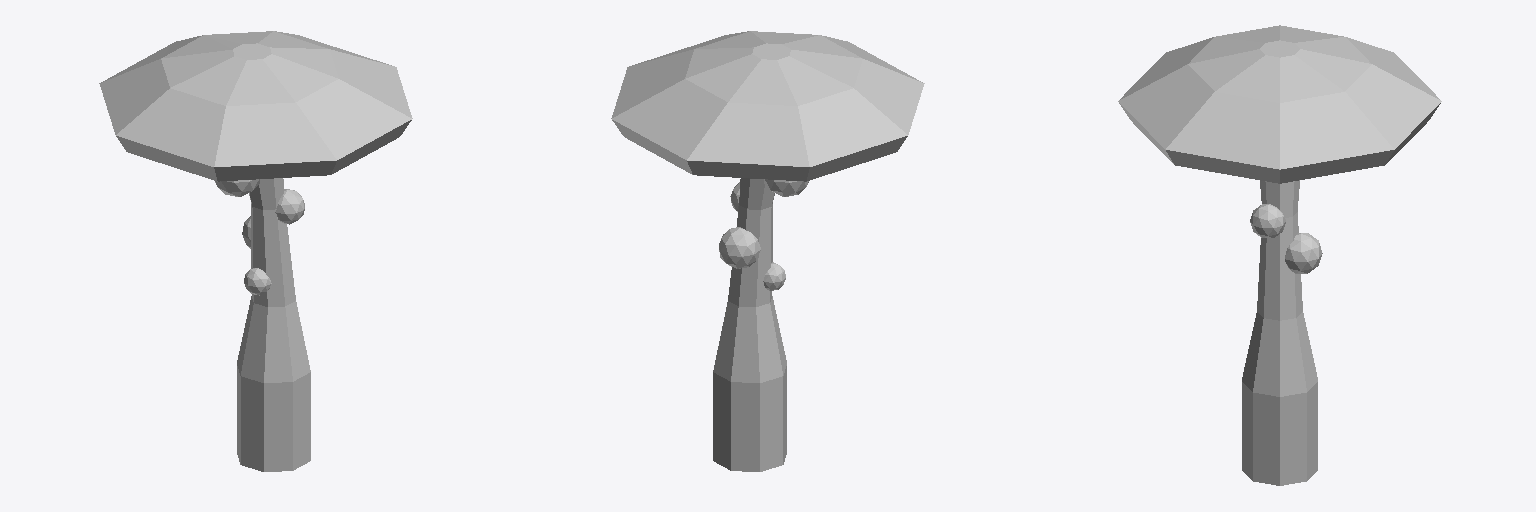
The model's file is mushroom2.obj.
3 views of the same model, side by side, from view 1: azimuth 30°, elevation 25°; view 2: azimuth 150°, elevation 25°; view 3: azimuth 270°, elevation 25° (orthographic).
Visible parts, largest first — view 1: Cylinder; view 2: Cylinder; view 3: Cylinder.
Boxes of the visible parts, box(x1,y1,x2,y2) form: Cylinder: box(99, 31, 412, 471); Cylinder: box(611, 31, 924, 471); Cylinder: box(1118, 25, 1441, 485).
Bounding box in the file's own units: 8.43 × 11.77 × 8.43.